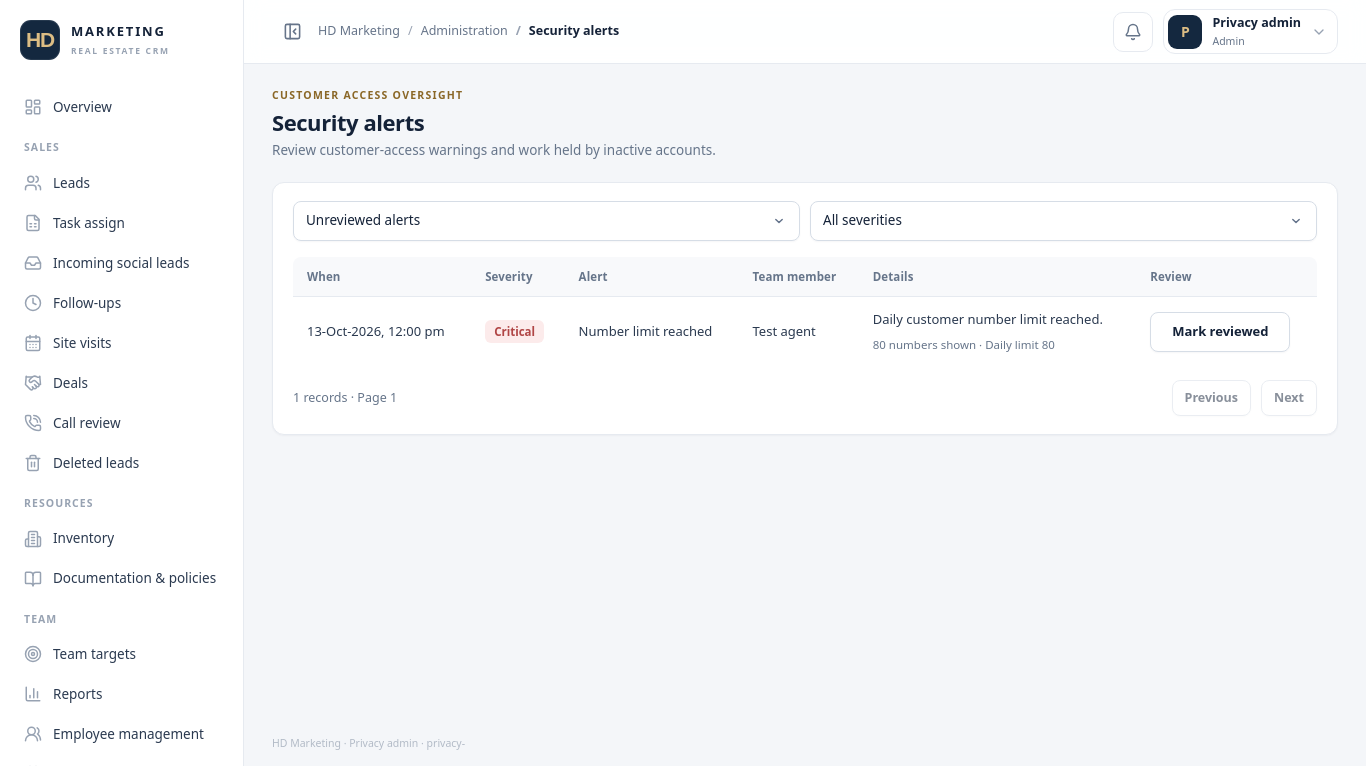
P2 admin security alerts › shows safe alert details and sidebar count, then reviews and refreshes both
Expected: the text "Test agent" is shown, [738,297,859,366]
Expected: the text "80 numbers shown · Daily limit 80" is shown, [873,337,1055,352]
Click the button "Mark reviewed": coordinates (1220, 332) [1150,312,1290,352]
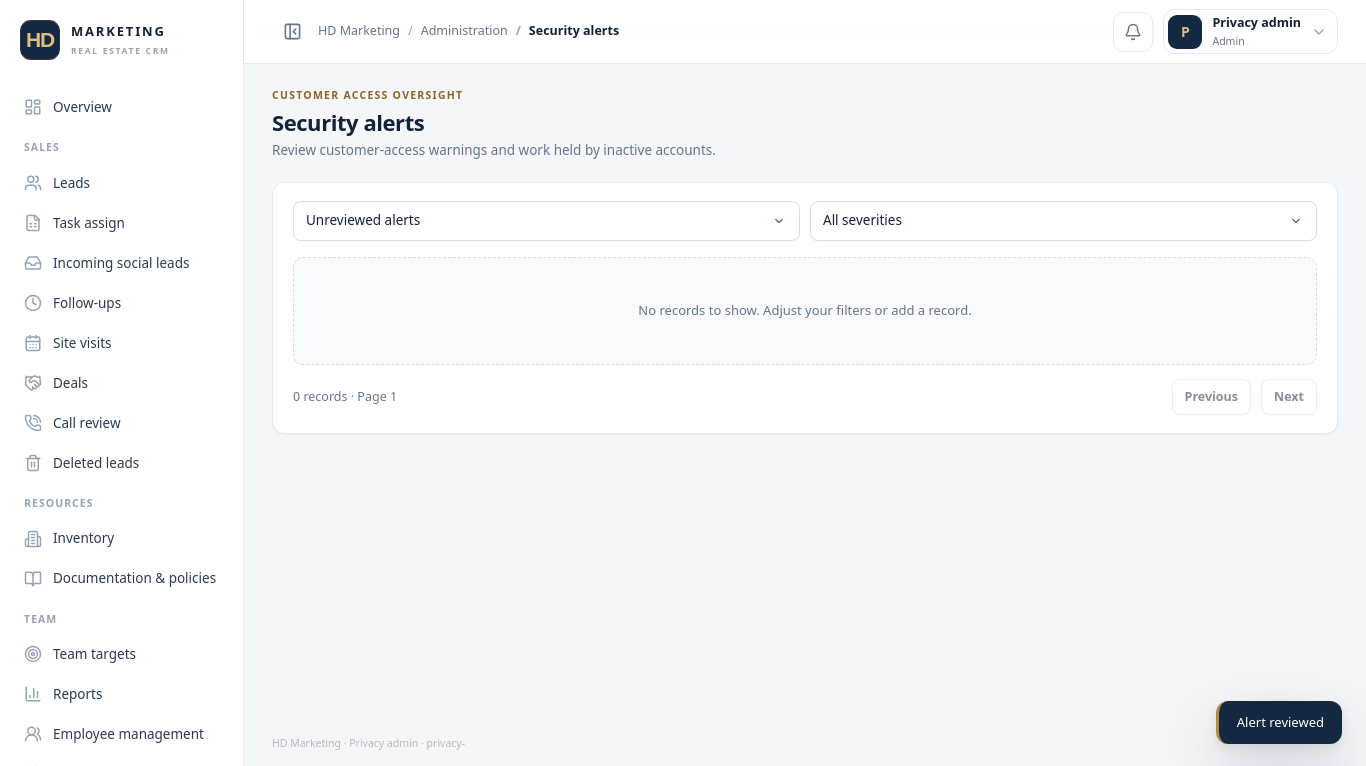
Result: the text "Alert reviewed" is shown at [1216,700,1342,744]
Result: the text "No records to show. Adjust your filters or add a record." is shown at [293,257,1317,365]
Select "Reviewed alerts" in the dropdown named "Alert review status": coordinates (546, 221) [293,201,800,241]
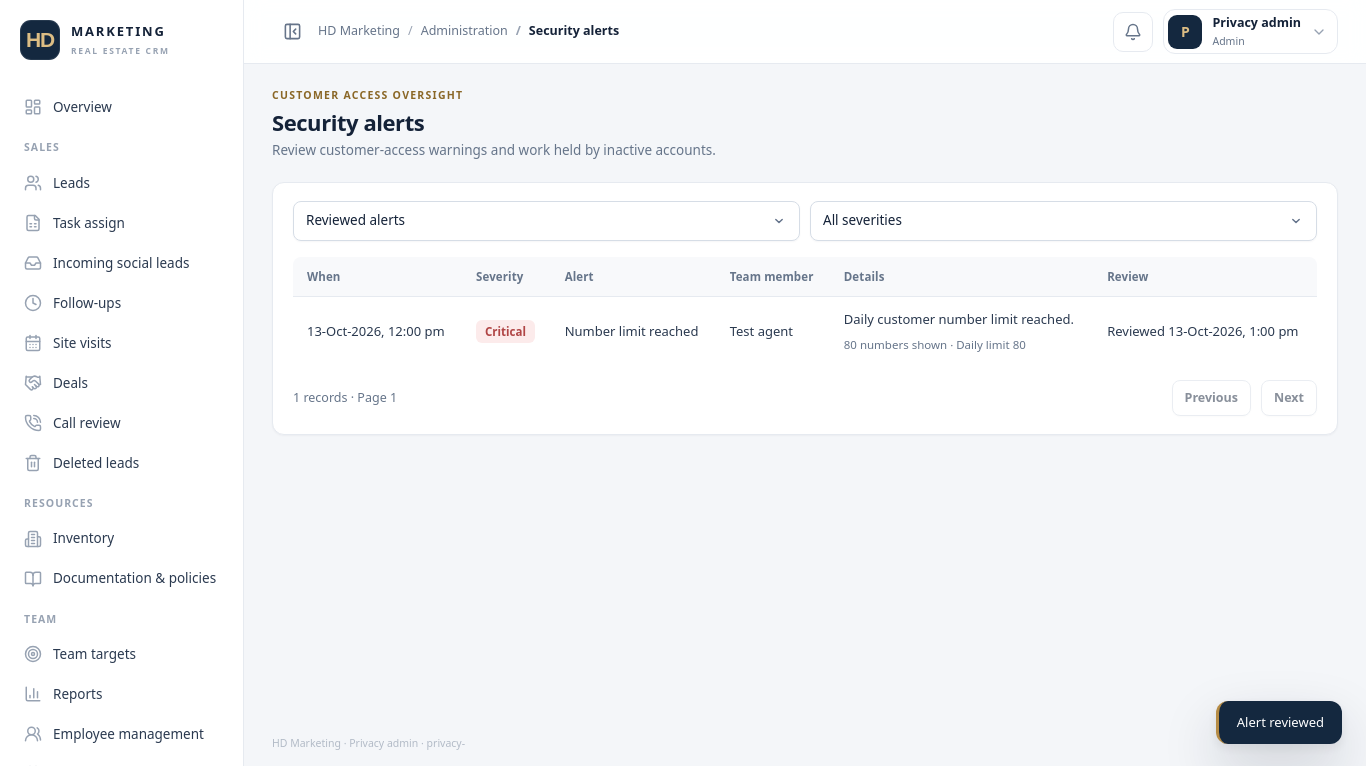
Expected: the button "Mark reviewed" is not shown
Result: the text "Test agent" is shown at [716,297,830,366]
